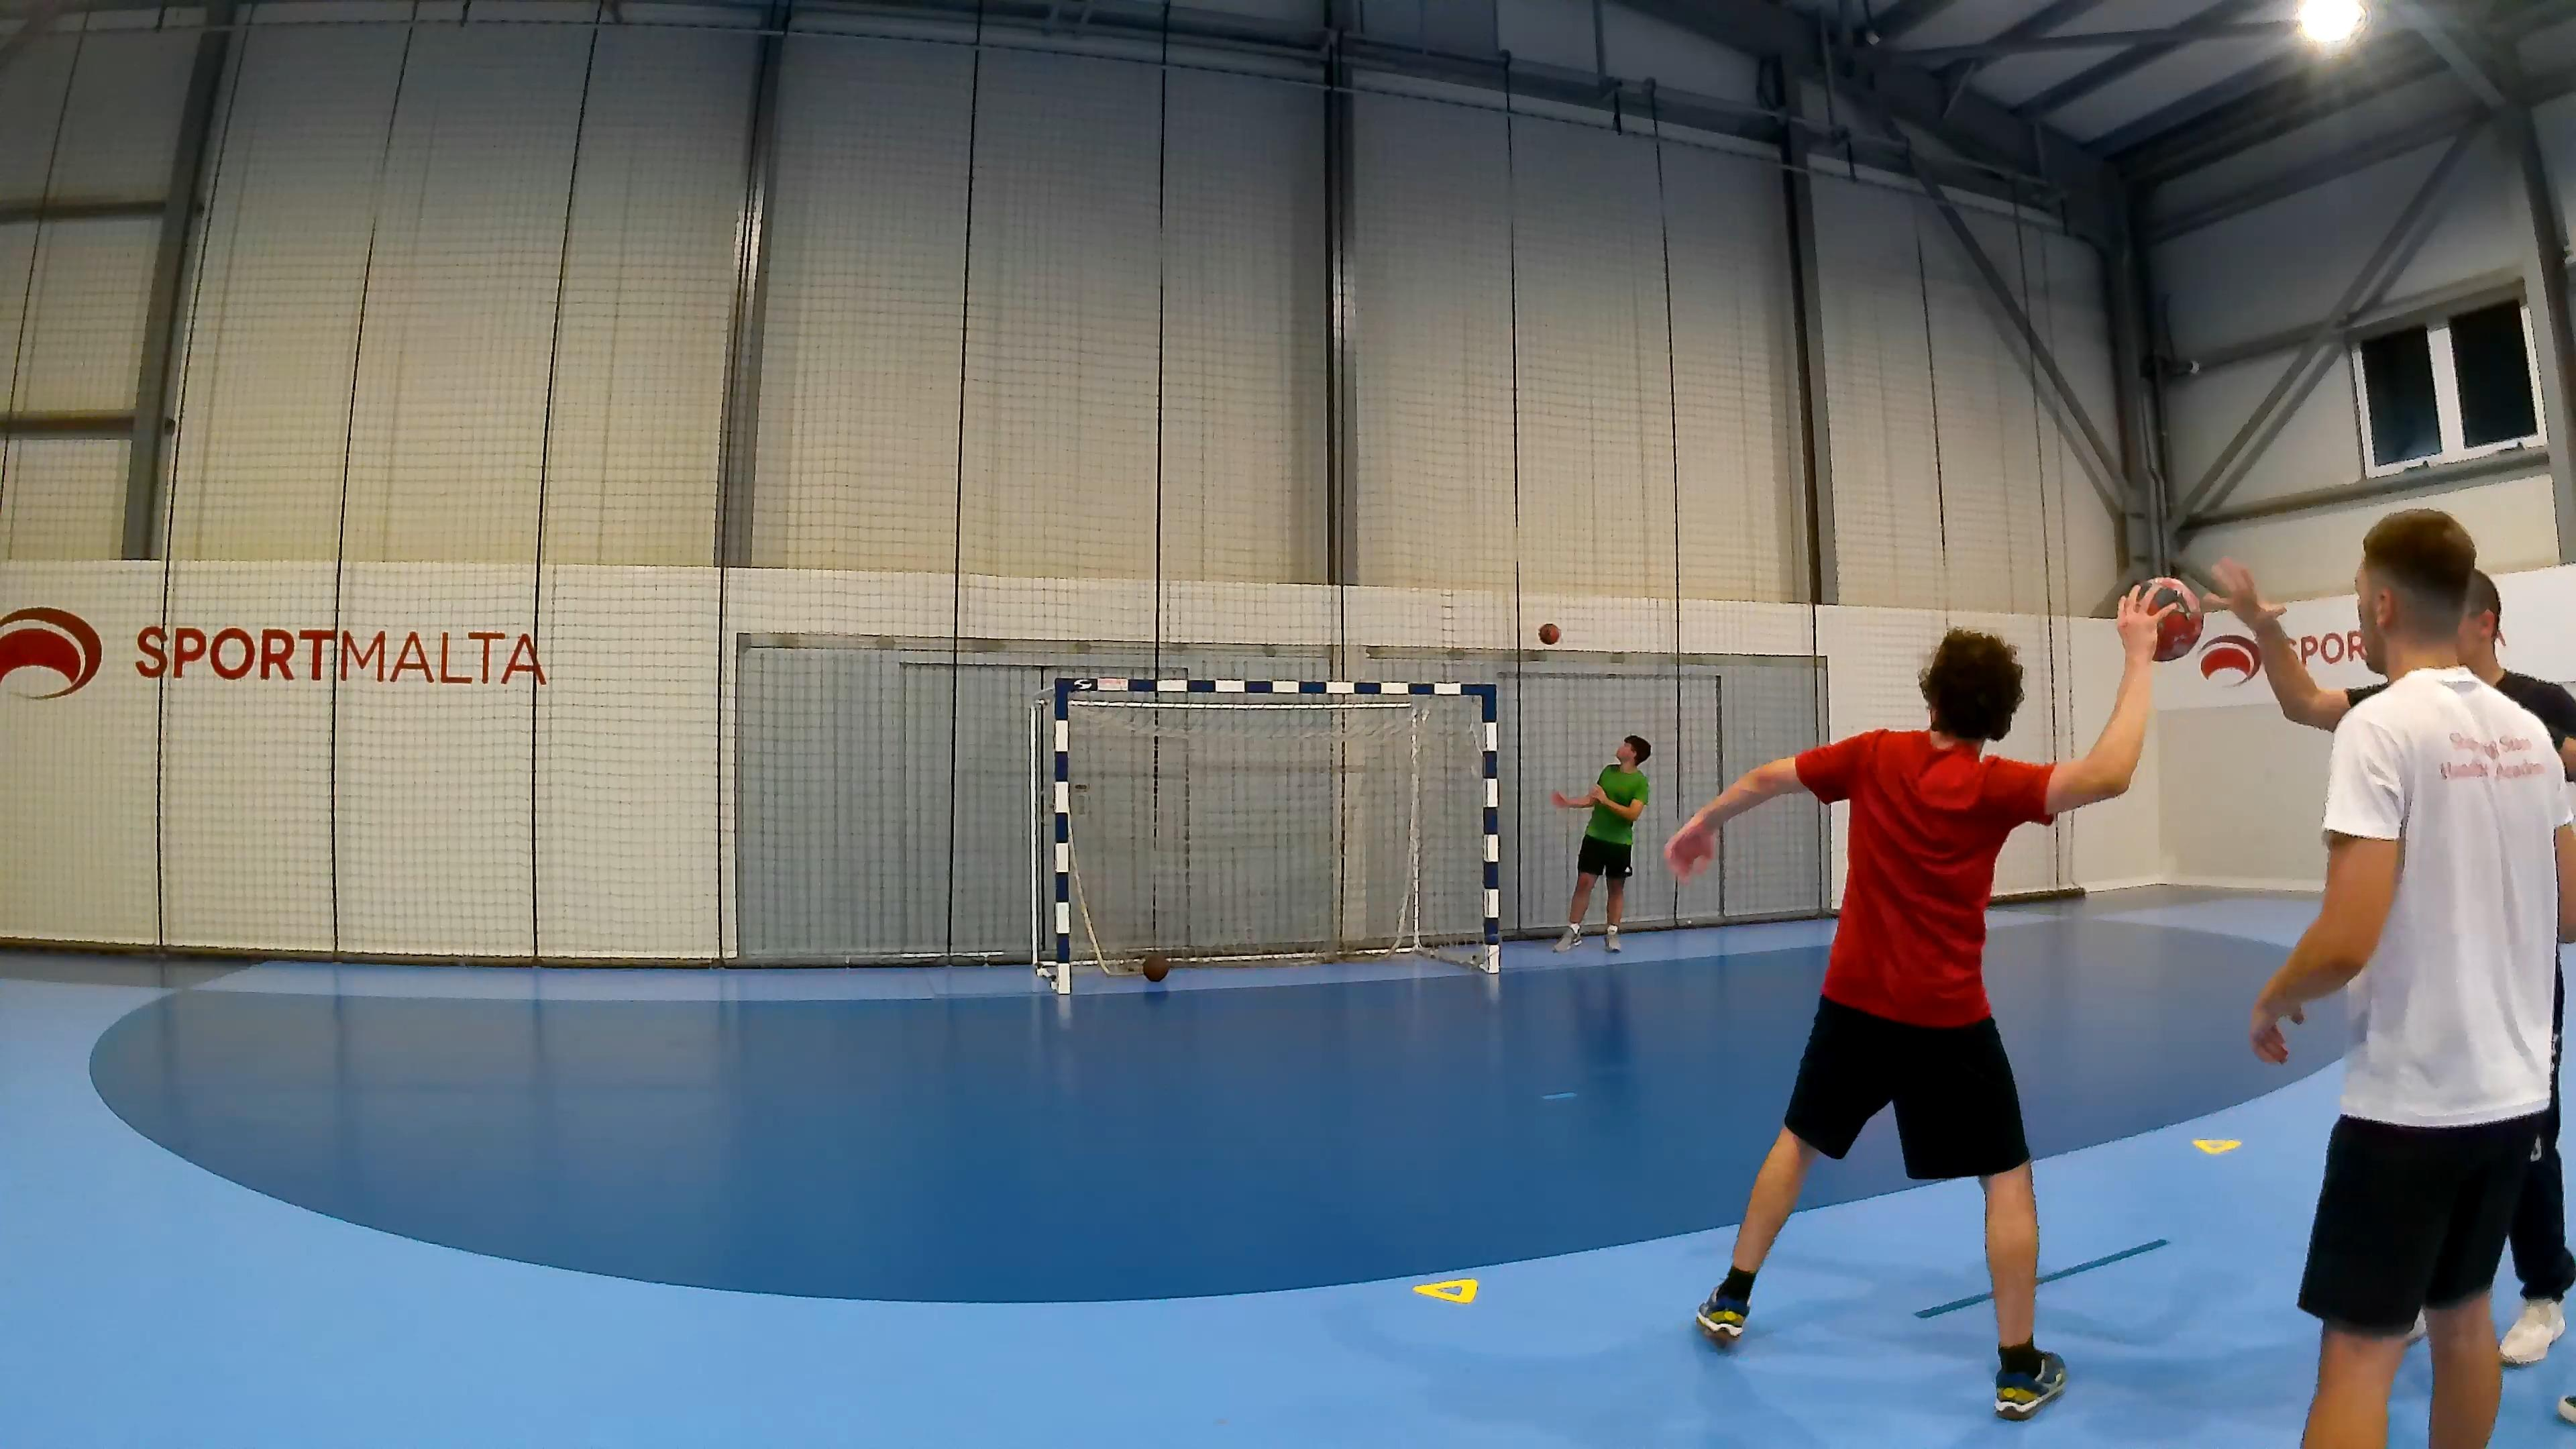handball: (2128, 575, 2203, 662), (1143, 948, 1169, 977), (1539, 621, 1562, 646)
